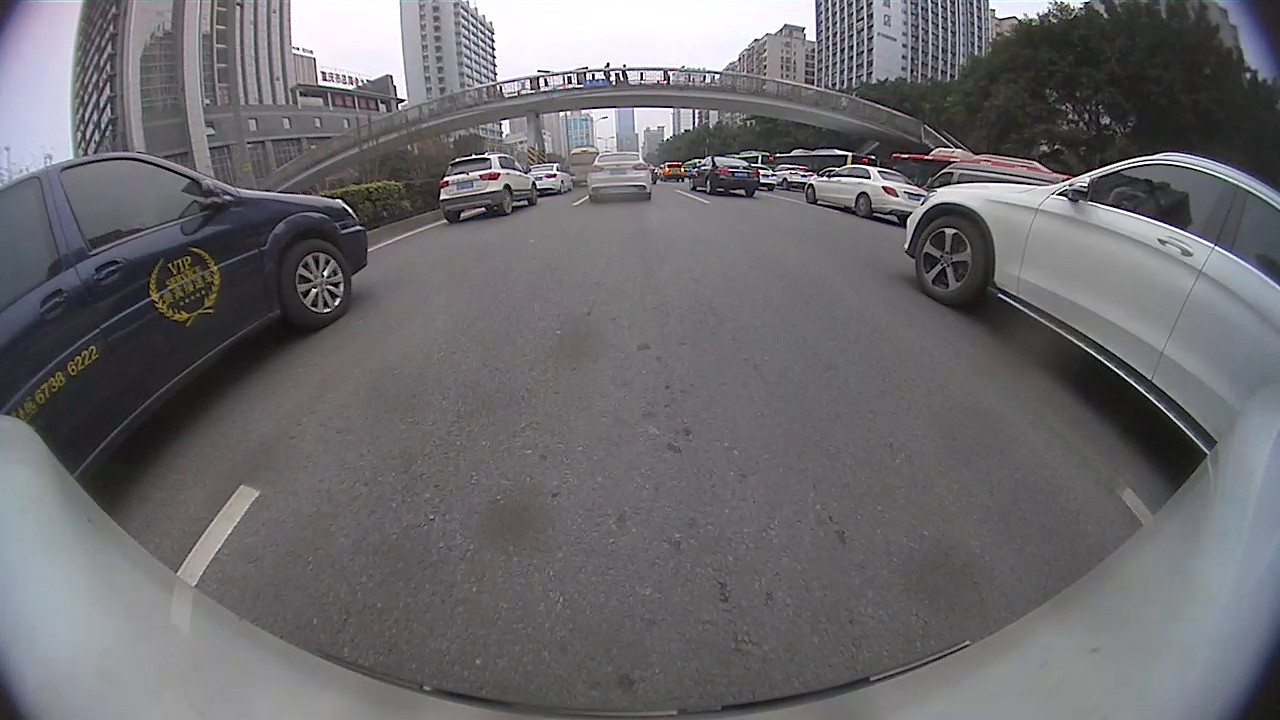car: (2, 151, 370, 490), (899, 151, 1279, 456), (809, 161, 931, 222), (437, 150, 540, 222), (591, 150, 654, 205), (689, 155, 762, 198)
front: (912, 217, 991, 305), (277, 237, 353, 326), (804, 183, 817, 206), (528, 182, 538, 207)
rear: (853, 191, 871, 220), (500, 188, 514, 215), (704, 176, 715, 195)
